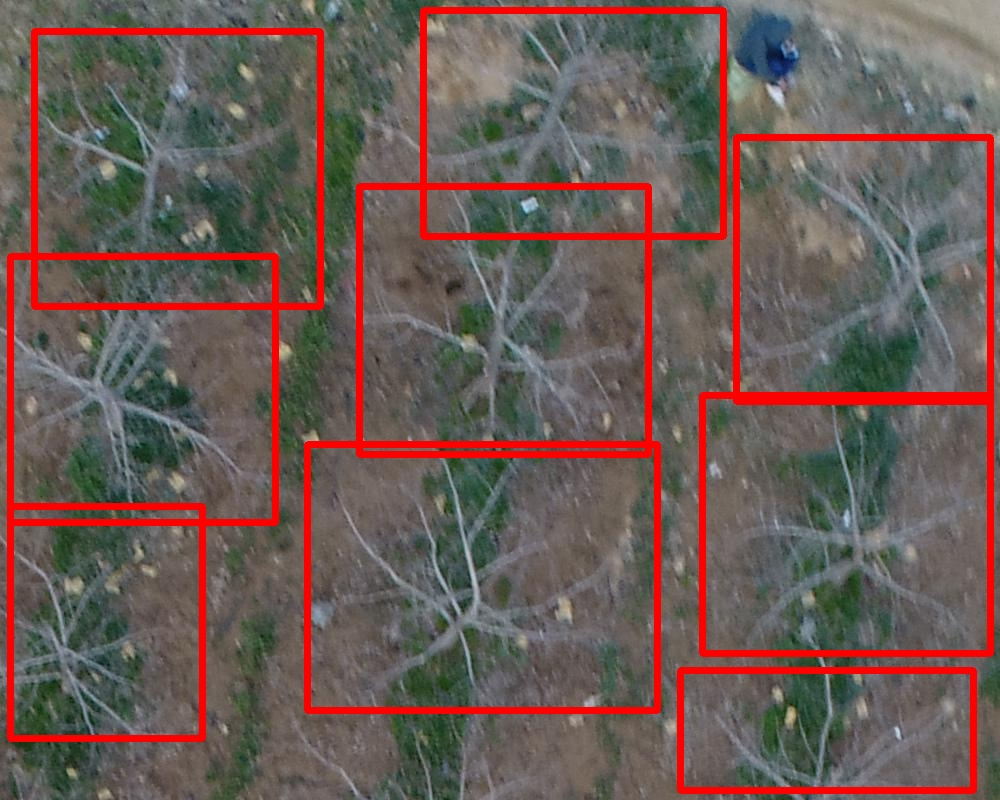apple: (307, 444, 657, 710), (34, 31, 320, 306), (359, 186, 648, 454), (702, 395, 990, 653), (10, 256, 275, 522), (423, 10, 723, 236), (736, 137, 990, 401), (10, 506, 202, 738), (680, 670, 973, 790)
